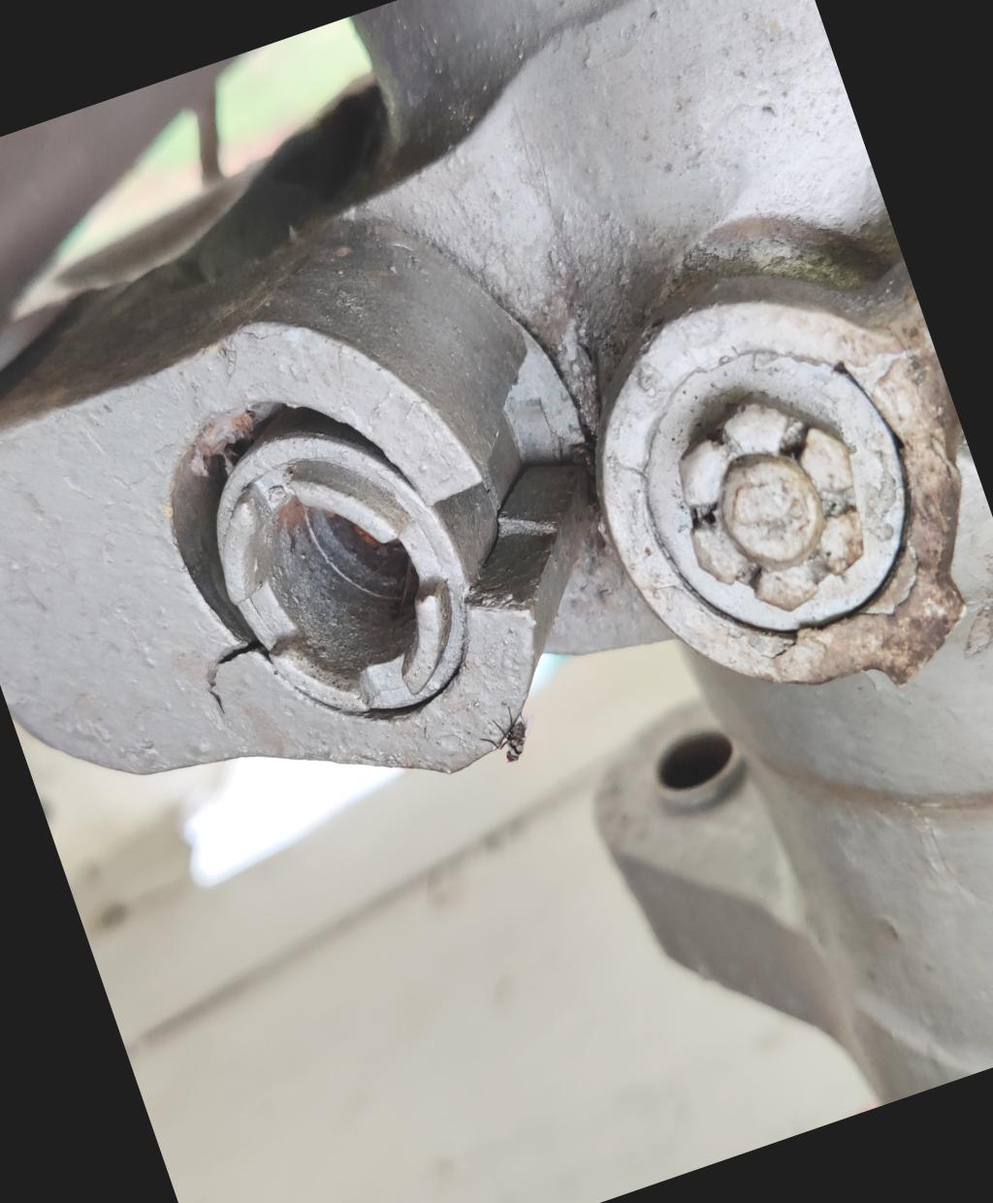crack: (176, 621, 284, 739)
